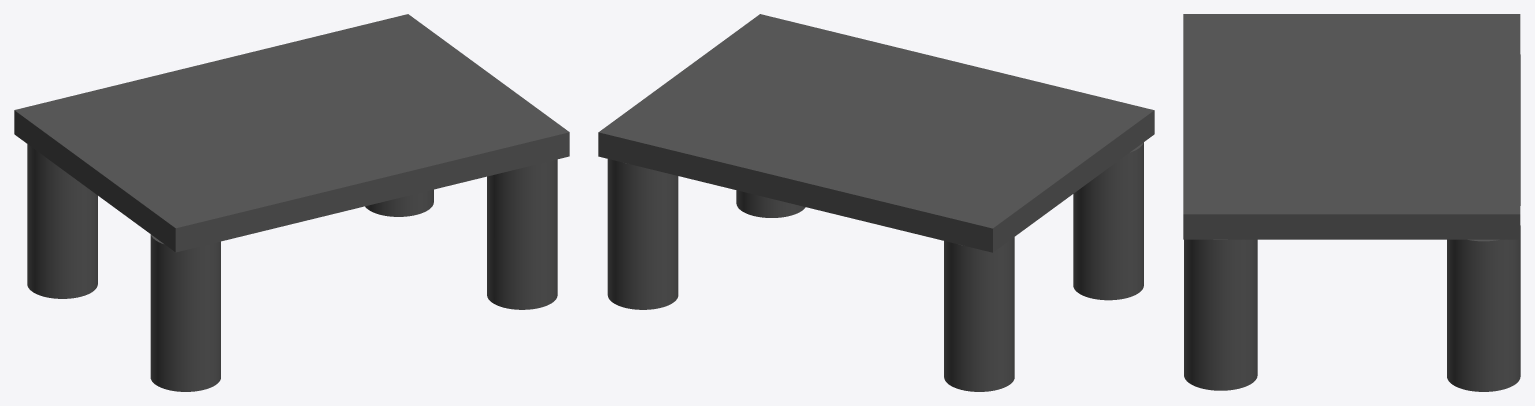
File: Plataforma 2.glb
3 views of the same model, side by side, from view 1: azimuth 30°, elevation 25°; view 2: azimuth 150°, elevation 25°; view 3: azimuth 270°, elevation 25° (orthographic). The views are drawn at different scales.
Visible parts, largest first — view 1: mesh_id144, mesh_id157, mesh_id163, mesh_id175, mesh_id181; view 2: mesh_id144, mesh_id175, mesh_id181, mesh_id157, mesh_id163; view 3: mesh_id144, mesh_id181, mesh_id163.
Part boxes in pixels (x1,y1,x2,y2): mesh_id144: [14, 14, 569, 252]; mesh_id157: [150, 234, 220, 391]; mesh_id163: [487, 159, 557, 309]; mesh_id175: [27, 144, 97, 298]; mesh_id181: [365, 189, 433, 216]; mesh_id144: [598, 14, 1154, 252]; mesh_id175: [944, 237, 1014, 391]; mesh_id181: [607, 159, 678, 309]; mesh_id157: [1073, 142, 1143, 300]; mesh_id163: [736, 190, 805, 217]; mesh_id144: [1183, 14, 1520, 239]; mesh_id181: [1447, 225, 1520, 391]; mesh_id163: [1184, 239, 1257, 390].
Bounding box in the file's own units: 0.509 × 0.2051 × 0.3564.
Materials: 2 (2 with a texture image).
